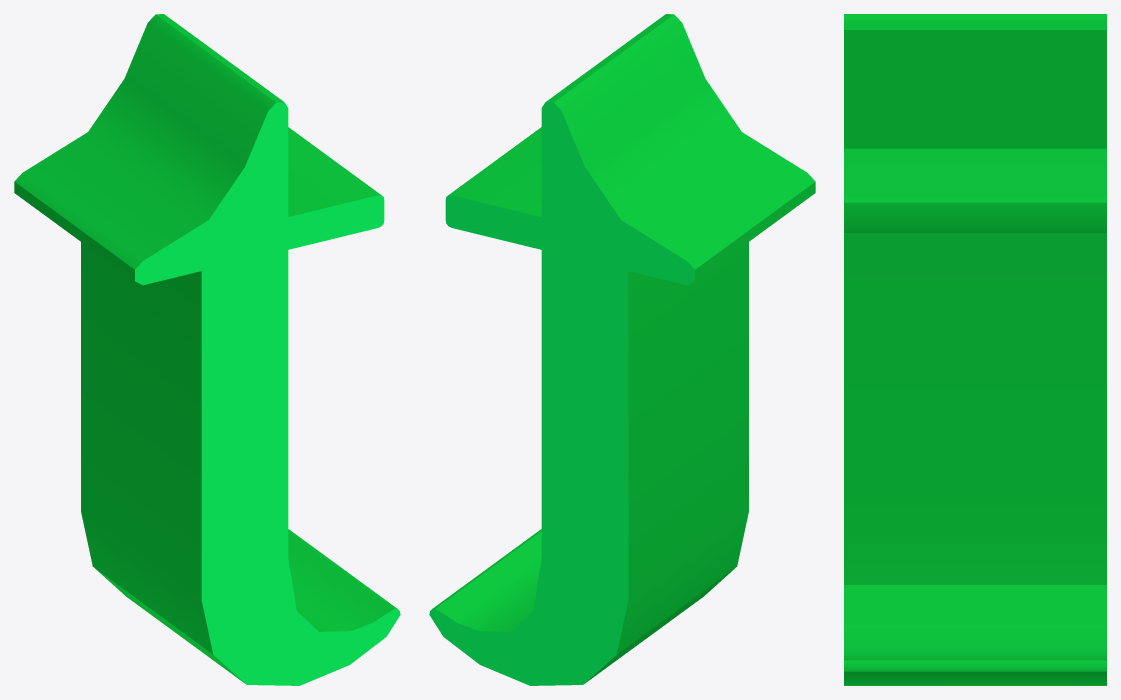
File: T_Soul_Green.glb
3 views of the same model, side by side, from view 1: azimuth 30°, elevation 25°; view 2: azimuth 150°, elevation 25°; view 3: azimuth 270°, elevation 25° (orthographic). The views are drawn at different scales.
Parts seen in each view (by area): view 1: t_Soul_Green; view 2: t_Soul_Green; view 3: t_Soul_Green.
Part boxes in pixels (x1,y1,x2,y2): t_Soul_Green: (14, 14, 400, 685); t_Soul_Green: (429, 14, 815, 685); t_Soul_Green: (844, 14, 1106, 685).
Size of what is drawn, in the model's own units: 0.0573 by 0.1213 by 0.045.
Materials: 2 (2 with a texture image).
